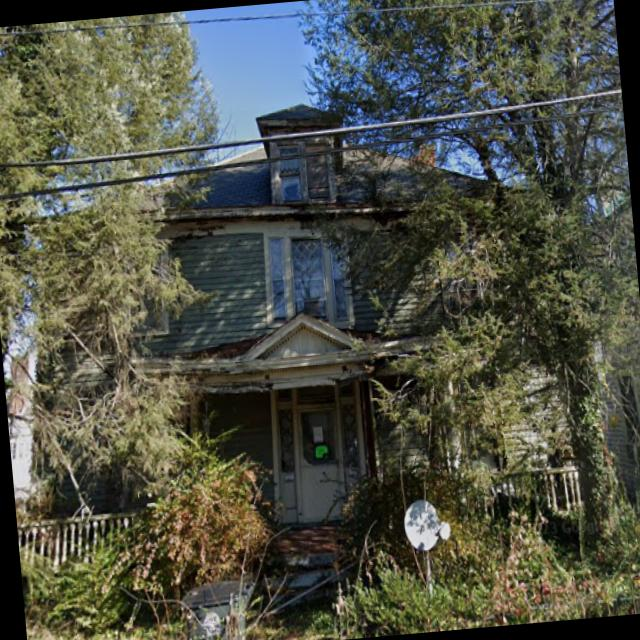House: (0, 83, 588, 603), (569, 143, 640, 518)
